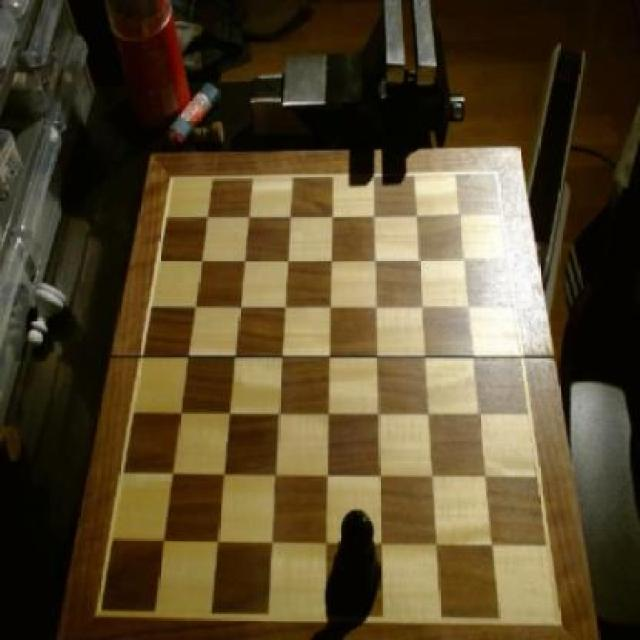black-bishop: (334, 506, 378, 607)
